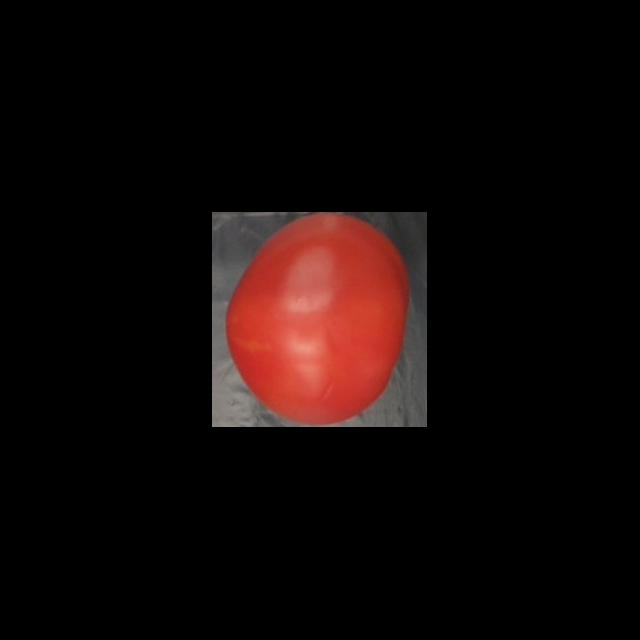tomato: (220, 213, 416, 427)
